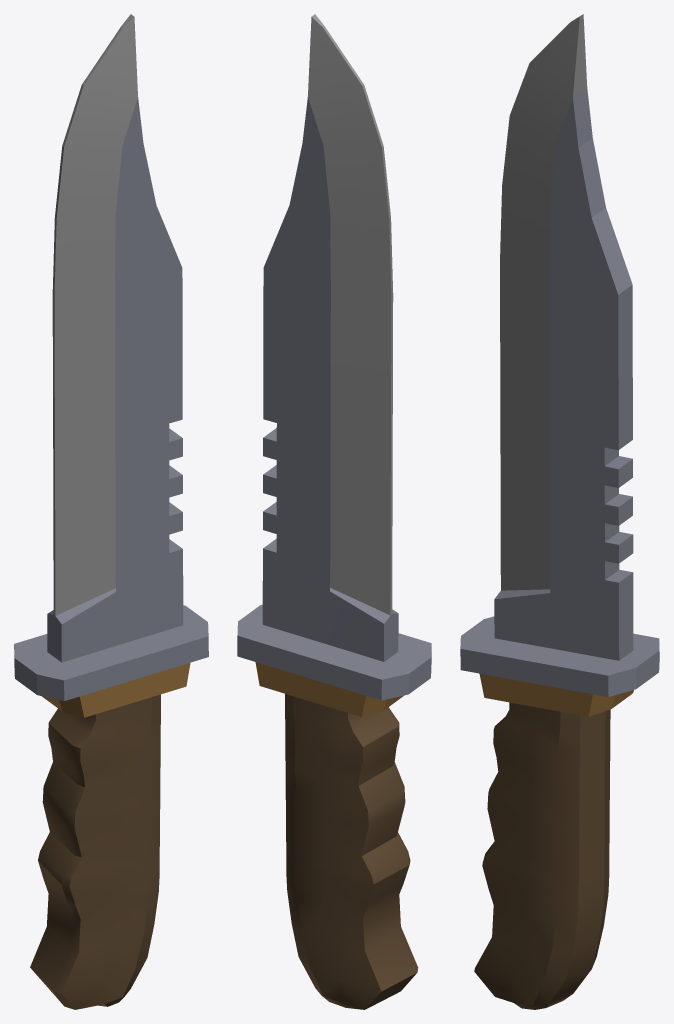
The model's file is Knife.glb.
3 renders of one model, left to right at view 1: azimuth 30°, elevation 25°; view 2: azimuth 150°, elevation 25°; view 3: azimuth 330°, elevation 25°, orthographic. The views are drawn at different scales.
Visible parts, largest first — view 1: Knife; view 2: Knife; view 3: Knife.
Part boxes in pixels (x1,y1,x2,y2): Knife: [14, 14, 208, 1009]; Knife: [237, 14, 431, 1009]; Knife: [460, 14, 659, 1009].
Size of the model in its own units: 0.2596 by 1.41 by 0.131.
